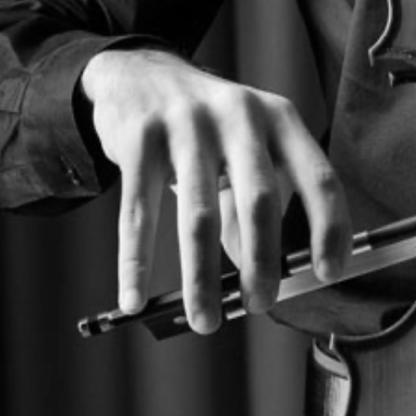good: (70, 63, 364, 338)
